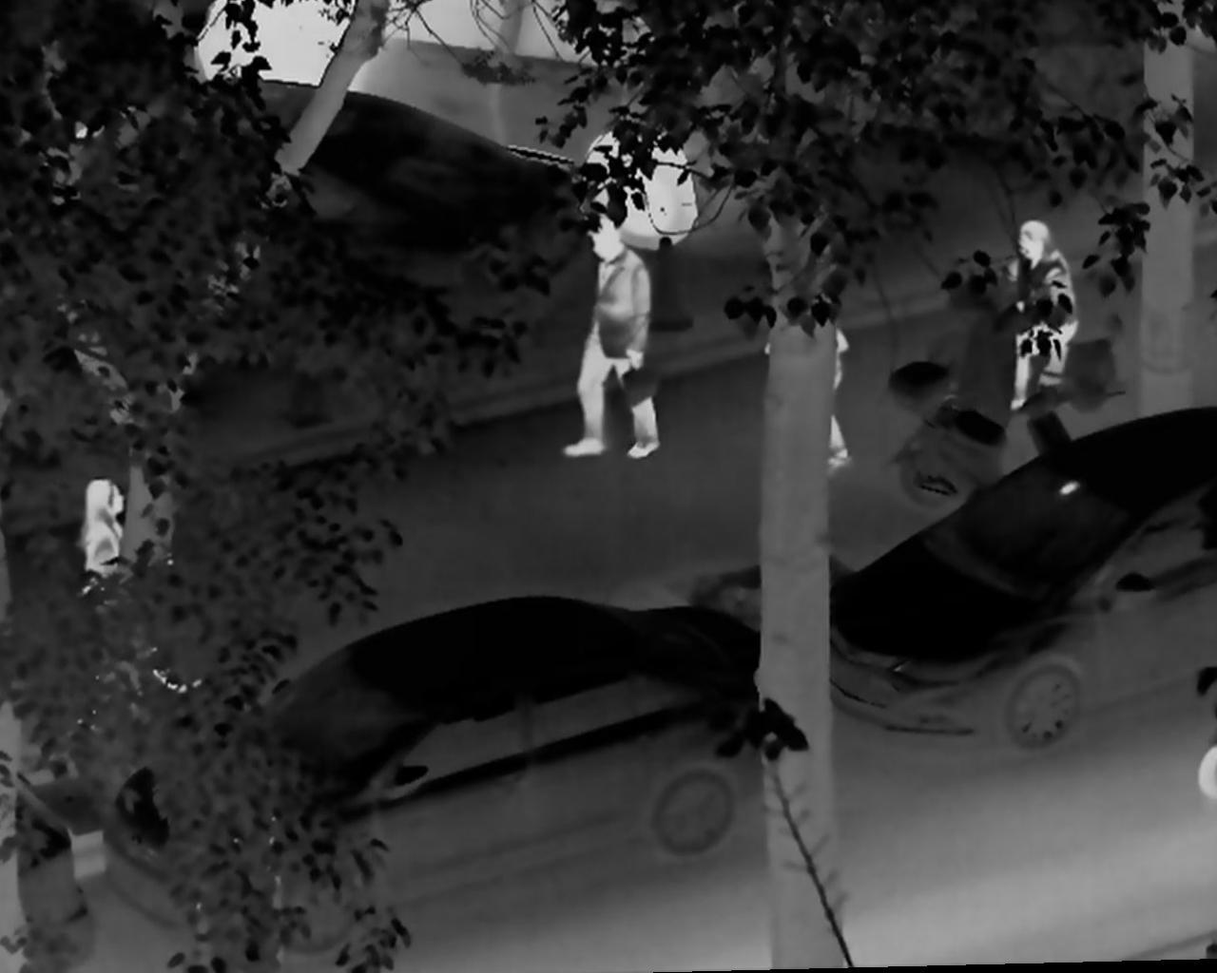person: (67, 480, 208, 720), (559, 216, 671, 467), (990, 217, 1079, 418), (768, 301, 858, 478)
